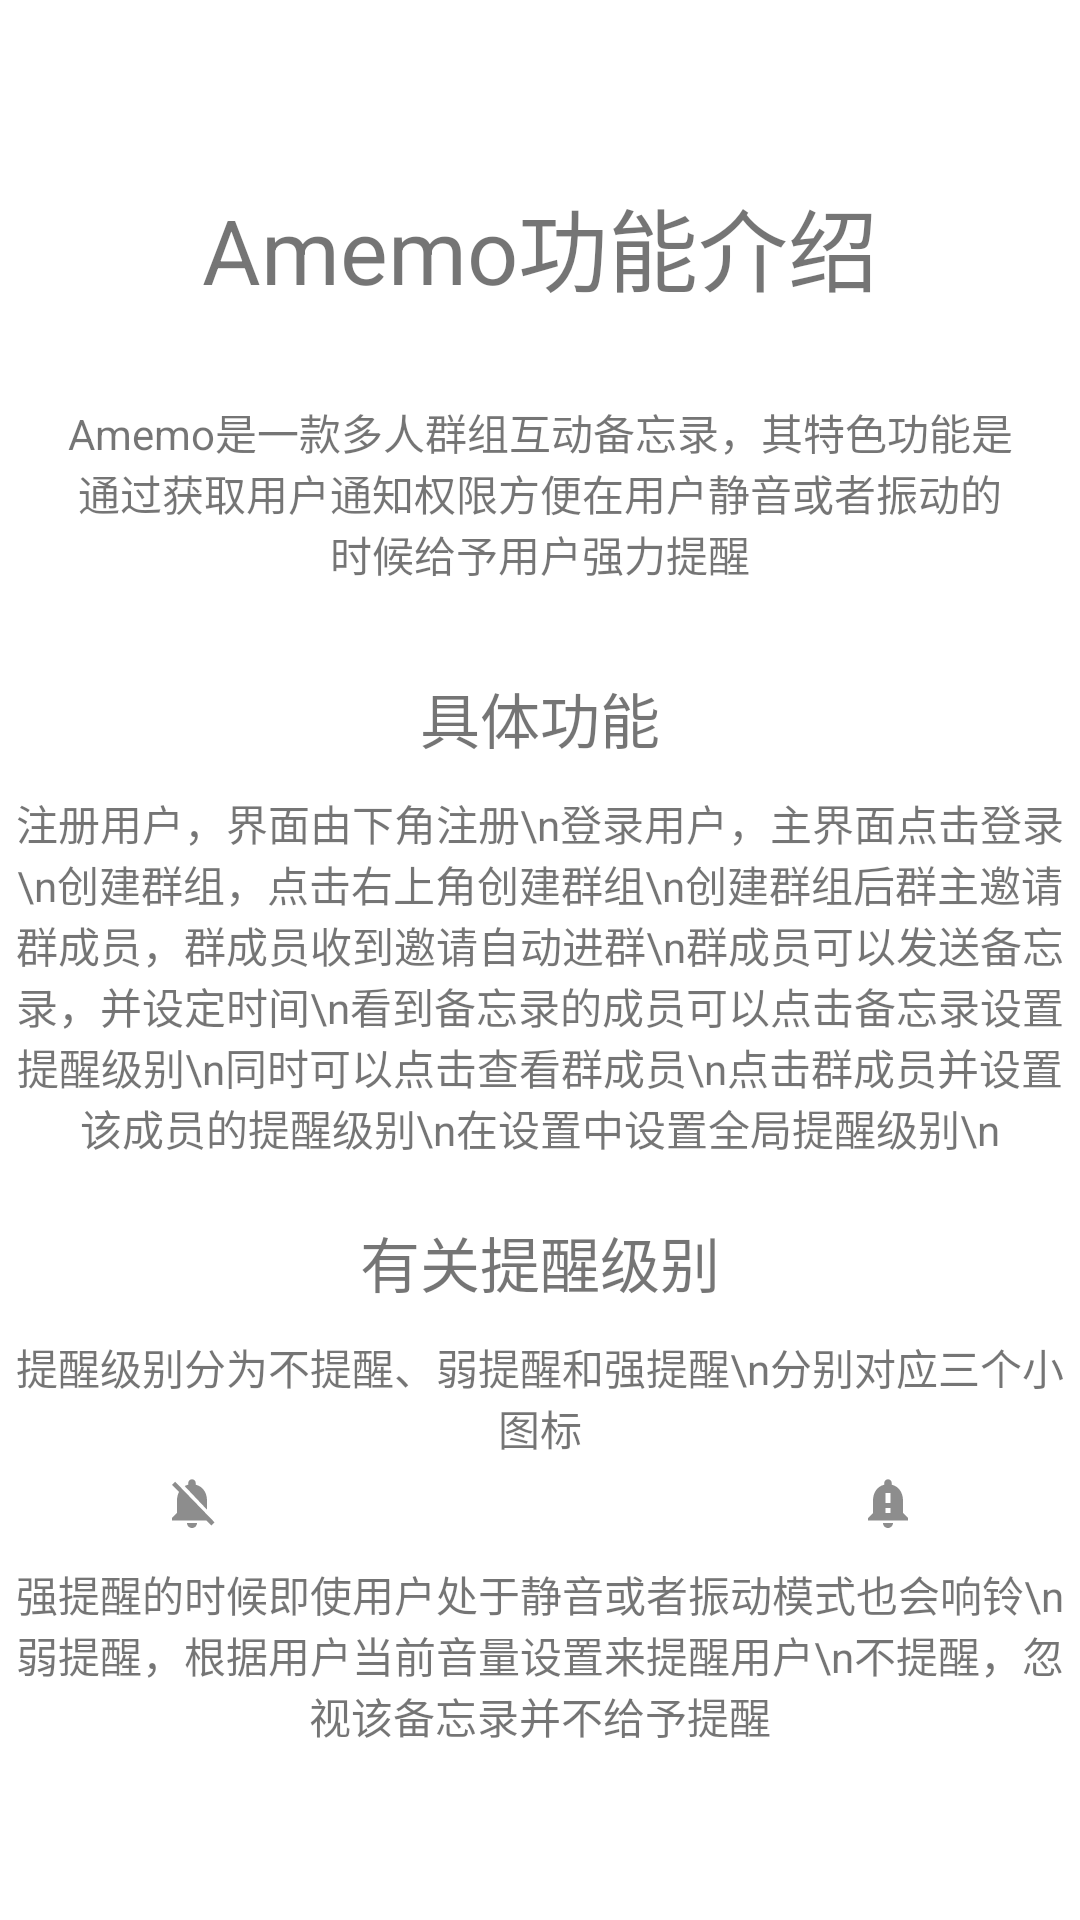

Named icons in this screenshot (1080px×1920px) and their bounding boxes, (x1, y1, x2, y2):
notification important: (868, 1479, 908, 1528)
notifications off: (172, 1479, 215, 1528)
